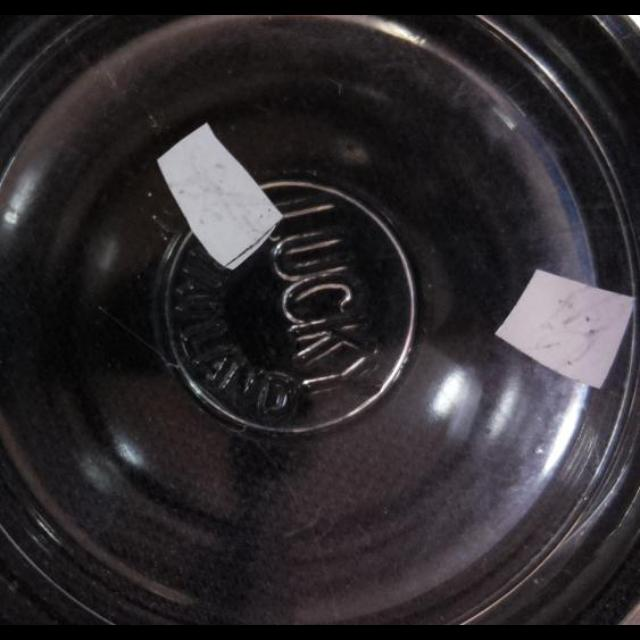Fragment: (156, 124, 282, 268), (492, 268, 634, 390)
